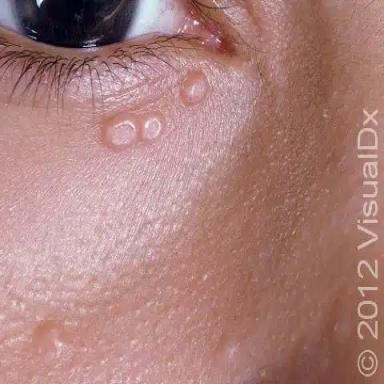Molluscum-Contagiosum: (105, 115, 162, 148), (180, 71, 210, 104), (32, 320, 61, 354)
